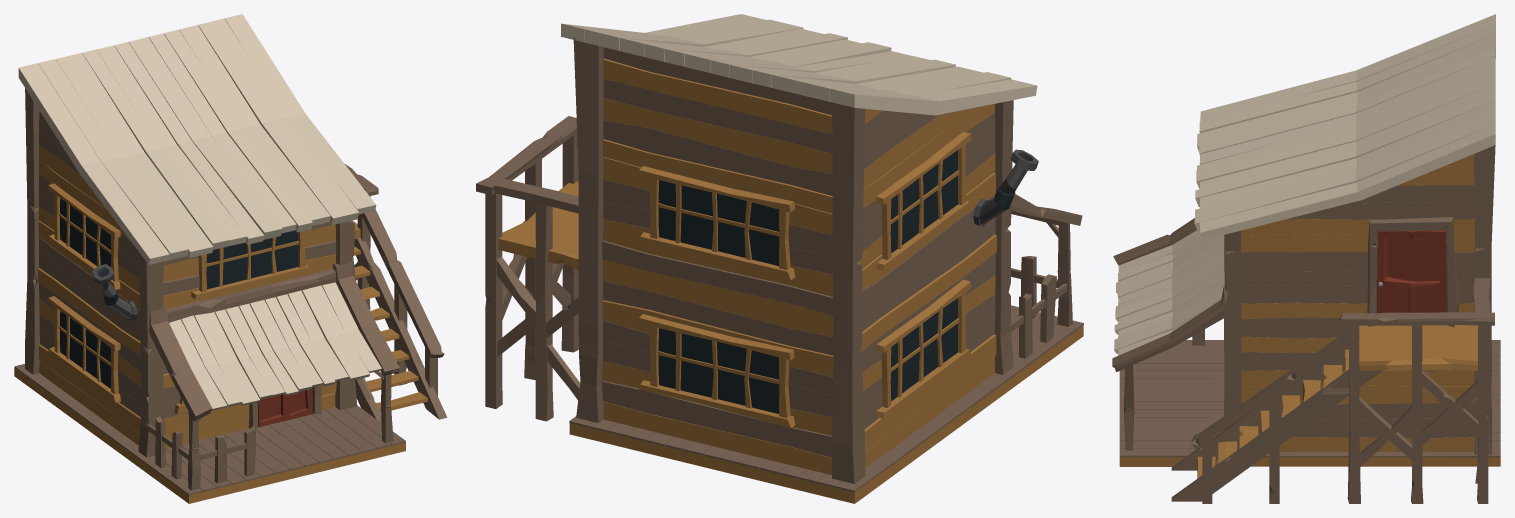
The model's file is Building_2.fbx.
3 renders of one model, left to right at view 1: azimuth 30°, elevation 25°; view 2: azimuth 150°, elevation 25°; view 3: azimuth 270°, elevation 25°, orthographic. The views are drawn at different scales.
Parts seen in each view (by area): view 1: Building_2; view 2: Building_2; view 3: Building_2.
Part boxes in pixels (<box>): Building_2: <box>14,14,447,503</box>; Building_2: <box>476,14,1083,503</box>; Building_2: <box>1112,14,1500,503</box>.
Bounding box in the file's own units: 775 × 745 × 716.
